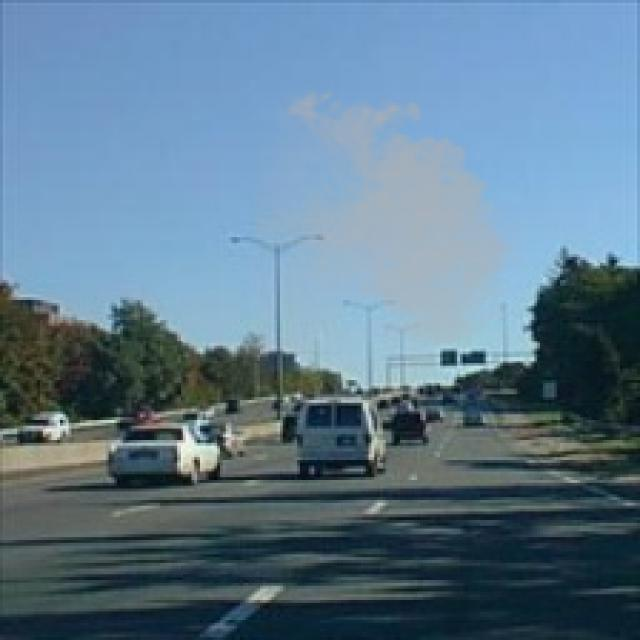Smoke: (254, 83, 526, 354)
